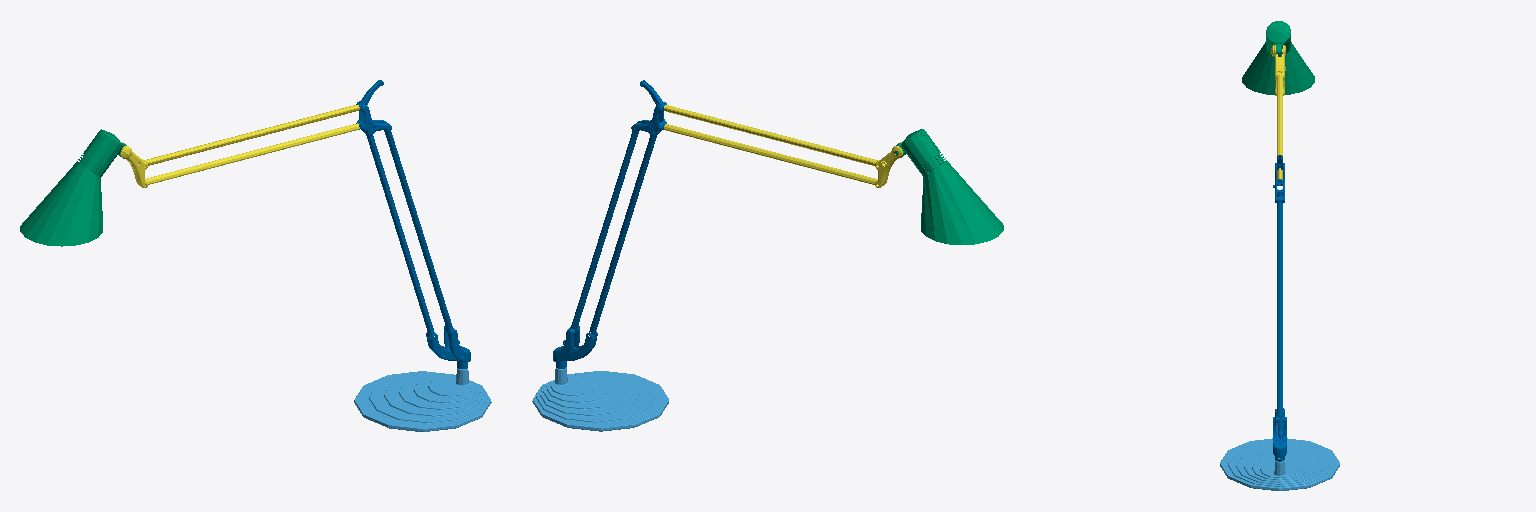
The robot description file, URDF, robot "partnet_19654d8fe7090a887eaeab1f0c9120b7":
<?xml version="1.0" ?>
<robot name="partnet_19654d8fe7090a887eaeab1f0c9120b7">
	<link name="base"/>
	<link name="link_0">
		<visual name="lamp_base_part-16">
			<origin xyz="0 0 0"/>
			<geometry>
				<mesh filename="textured_objs/original-29.obj"/>
			</geometry>
		</visual>
		<collision>
			<origin xyz="0 0 0"/>
			<geometry>
				<mesh filename="textured_objs/original-29.obj"/>
			</geometry>
		</collision>
	</link>
	<joint name="joint_0" type="fixed">
		<origin rpy="1.570796326794897 0 -1.570796326794897" xyz="0 0 0"/>
		<child link="link_0"/>
		<parent link="base"/>
	</joint>
	<link name="link_1">
		<visual name="lamp_shade-13">
			<origin xyz="0 -0.5613646043317658 -0.5857149599509234"/>
			<geometry>
				<mesh filename="textured_objs/new-0.obj"/>
			</geometry>
		</visual>
		<collision>
			<origin xyz="0 -0.5613646043317658 -0.5857149599509234"/>
			<geometry>
				<mesh filename="textured_objs/new-0.obj"/>
			</geometry>
		</collision>
	</link>
	<joint name="joint_1" type="revolute">
		<origin xyz="0.02155600000000002 0.1222978197879897 0.8947739375799466"/>
		<axis xyz="-1 0 0"/>
		<child link="link_1"/>
		<parent link="link_2"/>
		<limit lower="-0.3490658503988659" upper="1.5707963267948966"/>
	</joint>
	<link name="link_2">
		<visual name="lamp_arm_straight_bar-17">
			<origin xyz="0.02155600000000002 -0.4390667845437761 0.30905897762902323"/>
			<geometry>
				<mesh filename="textured_objs/original-32.obj"/>
			</geometry>
		</visual>
		<visual name="lamp_arm_straight_bar-17">
			<origin xyz="0.02155600000000002 -0.4390667845437761 0.30905897762902323"/>
			<geometry>
				<mesh filename="textured_objs/original-35.obj"/>
			</geometry>
		</visual>
		<visual name="lamp_arm_straight_bar-23">
			<origin xyz="0.02155600000000002 -0.4390667845437761 0.30905897762902323"/>
			<geometry>
				<mesh filename="textured_objs/original-26.obj"/>
			</geometry>
		</visual>
		<visual name="lamp_arm_straight_bar-23">
			<origin xyz="0.02155600000000002 -0.4390667845437761 0.30905897762902323"/>
			<geometry>
				<mesh filename="textured_objs/original-1.obj"/>
			</geometry>
		</visual>
		<visual name="lamp_arm_straight_bar-24">
			<origin xyz="0.02155600000000002 -0.4390667845437761 0.30905897762902323"/>
			<geometry>
				<mesh filename="textured_objs/original-25.obj"/>
			</geometry>
		</visual>
		<visual name="lamp_arm_straight_bar-24">
			<origin xyz="0.02155600000000002 -0.4390667845437761 0.30905897762902323"/>
			<geometry>
				<mesh filename="textured_objs/original-2.obj"/>
			</geometry>
		</visual>
		<collision>
			<origin xyz="0.02155600000000002 -0.4390667845437761 0.30905897762902323"/>
			<geometry>
				<mesh filename="textured_objs/original-32.obj"/>
			</geometry>
		</collision>
		<collision>
			<origin xyz="0.02155600000000002 -0.4390667845437761 0.30905897762902323"/>
			<geometry>
				<mesh filename="textured_objs/original-35.obj"/>
			</geometry>
		</collision>
		<collision>
			<origin xyz="0.02155600000000002 -0.4390667845437761 0.30905897762902323"/>
			<geometry>
				<mesh filename="textured_objs/original-26.obj"/>
			</geometry>
		</collision>
		<collision>
			<origin xyz="0.02155600000000002 -0.4390667845437761 0.30905897762902323"/>
			<geometry>
				<mesh filename="textured_objs/original-1.obj"/>
			</geometry>
		</collision>
		<collision>
			<origin xyz="0.02155600000000002 -0.4390667845437761 0.30905897762902323"/>
			<geometry>
				<mesh filename="textured_objs/original-25.obj"/>
			</geometry>
		</collision>
		<collision>
			<origin xyz="0.02155600000000002 -0.4390667845437761 0.30905897762902323"/>
			<geometry>
				<mesh filename="textured_objs/original-2.obj"/>
			</geometry>
		</collision>
	</link>
	<joint name="joint_2" type="revolute">
		<origin xyz="-0.013120328730106589 0.4390667845437761 0.37888020331136707"/>
		<axis xyz="-0.9999999999999999 0 0"/>
		<child link="link_2"/>
		<parent link="link_3"/>
		<limit lower="-0.08726646259971647" upper="0.08726646259971647"/>
	</joint>
	<link name="link_3">
		<visual name="lamp_joint-22">
			<origin xyz="0.008435671269893431 0 0.6879391809403903"/>
			<geometry>
				<mesh filename="textured_objs/original-6.obj"/>
			</geometry>
		</visual>
		<visual name="lamp_joint-22">
			<origin xyz="0.008435671269893431 0 0.6879391809403903"/>
			<geometry>
				<mesh filename="textured_objs/original-30.obj"/>
			</geometry>
		</visual>
		<visual name="lamp_joint-22">
			<origin xyz="0.008435671269893431 0 0.6879391809403903"/>
			<geometry>
				<mesh filename="textured_objs/original-31.obj"/>
			</geometry>
		</visual>
		<visual name="lamp_joint-22">
			<origin xyz="0.008435671269893431 0 0.6879391809403903"/>
			<geometry>
				<mesh filename="textured_objs/original-22.obj"/>
			</geometry>
		</visual>
		<visual name="lamp_joint-22">
			<origin xyz="0.008435671269893431 0 0.6879391809403903"/>
			<geometry>
				<mesh filename="textured_objs/original-21.obj"/>
			</geometry>
		</visual>
		<visual name="lamp_joint-22">
			<origin xyz="0.008435671269893431 0 0.6879391809403903"/>
			<geometry>
				<mesh filename="textured_objs/original-17.obj"/>
			</geometry>
		</visual>
		<visual name="lamp_joint-27">
			<origin xyz="0.008435671269893431 0 0.6879391809403903"/>
			<geometry>
				<mesh filename="textured_objs/original-37.obj"/>
			</geometry>
		</visual>
		<visual name="lamp_joint-27">
			<origin xyz="0.008435671269893431 0 0.6879391809403903"/>
			<geometry>
				<mesh filename="textured_objs/original-27.obj"/>
			</geometry>
		</visual>
		<visual name="lamp_arm_straight_bar-25">
			<origin xyz="0.008435671269893431 0 0.6879391809403903"/>
			<geometry>
				<mesh filename="textured_objs/original-23.obj"/>
			</geometry>
		</visual>
		<visual name="lamp_arm_straight_bar-25">
			<origin xyz="0.008435671269893431 0 0.6879391809403903"/>
			<geometry>
				<mesh filename="textured_objs/original-38.obj"/>
			</geometry>
		</visual>
		<visual name="lamp_arm_straight_bar-26">
			<origin xyz="0.008435671269893431 0 0.6879391809403903"/>
			<geometry>
				<mesh filename="textured_objs/original-24.obj"/>
			</geometry>
		</visual>
		<visual name="lamp_arm_straight_bar-26">
			<origin xyz="0.008435671269893431 0 0.6879391809403903"/>
			<geometry>
				<mesh filename="textured_objs/original-39.obj"/>
			</geometry>
		</visual>
		<collision>
			<origin xyz="0.008435671269893431 0 0.6879391809403903"/>
			<geometry>
				<mesh filename="textured_objs/original-6.obj"/>
			</geometry>
		</collision>
		<collision>
			<origin xyz="0.008435671269893431 0 0.6879391809403903"/>
			<geometry>
				<mesh filename="textured_objs/original-30.obj"/>
			</geometry>
		</collision>
		<collision>
			<origin xyz="0.008435671269893431 0 0.6879391809403903"/>
			<geometry>
				<mesh filename="textured_objs/original-31.obj"/>
			</geometry>
		</collision>
		<collision>
			<origin xyz="0.008435671269893431 0 0.6879391809403903"/>
			<geometry>
				<mesh filename="textured_objs/original-22.obj"/>
			</geometry>
		</collision>
		<collision>
			<origin xyz="0.008435671269893431 0 0.6879391809403903"/>
			<geometry>
				<mesh filename="textured_objs/original-21.obj"/>
			</geometry>
		</collision>
		<collision>
			<origin xyz="0.008435671269893431 0 0.6879391809403903"/>
			<geometry>
				<mesh filename="textured_objs/original-17.obj"/>
			</geometry>
		</collision>
		<collision>
			<origin xyz="0.008435671269893431 0 0.6879391809403903"/>
			<geometry>
				<mesh filename="textured_objs/original-37.obj"/>
			</geometry>
		</collision>
		<collision>
			<origin xyz="0.008435671269893431 0 0.6879391809403903"/>
			<geometry>
				<mesh filename="textured_objs/original-27.obj"/>
			</geometry>
		</collision>
		<collision>
			<origin xyz="0.008435671269893431 0 0.6879391809403903"/>
			<geometry>
				<mesh filename="textured_objs/original-23.obj"/>
			</geometry>
		</collision>
		<collision>
			<origin xyz="0.008435671269893431 0 0.6879391809403903"/>
			<geometry>
				<mesh filename="textured_objs/original-38.obj"/>
			</geometry>
		</collision>
		<collision>
			<origin xyz="0.008435671269893431 0 0.6879391809403903"/>
			<geometry>
				<mesh filename="textured_objs/original-24.obj"/>
			</geometry>
		</collision>
		<collision>
			<origin xyz="0.008435671269893431 0 0.6879391809403903"/>
			<geometry>
				<mesh filename="textured_objs/original-39.obj"/>
			</geometry>
		</collision>
	</link>
	<joint name="joint_3" type="revolute">
		<origin xyz="-0.008435671269893431 0 -0.6879391809403903"/>
		<axis xyz="0 1 0"/>
		<child link="link_3"/>
		<parent link="link_0"/>
		<limit lower="-1.0471975511965976" upper="1.0471975511965976"/>
	</joint>
</robot>

--- Facts derived from the render (not from the file) ---
3 views of the same robot in one strip: view 1: azimuth 30°, elevation 25°; view 2: azimuth 150°, elevation 25°; view 3: azimuth 270°, elevation 25° (orthographic).
Model partnet_19654d8fe7090a887eaeab1f0c9120b7 with 5 links and 4 joints (3 revolute, 1 fixed), rooted at base, posed all joints at 0.
Visible links, largest first — view 1: link_0, link_1, link_3, link_2; view 2: link_0, link_1, link_3, link_2; view 3: link_0, link_1, link_3, link_2.
Boxes of the visible links, x1,y1,x2,y2 form: link_0: (354, 368, 491, 431); link_1: (20, 129, 126, 246); link_3: (356, 80, 470, 368); link_2: (120, 105, 359, 187); link_0: (532, 367, 668, 431); link_1: (894, 129, 1003, 244); link_3: (553, 80, 666, 368); link_2: (664, 105, 902, 187); link_0: (1220, 438, 1339, 490); link_1: (1242, 21, 1314, 94); link_3: (1273, 155, 1286, 461); link_2: (1271, 45, 1285, 179).
Bounding box of the posed robot: 1.71 × 0.4446 × 1.26 m (x, y, z).
Meshes: 20 distinct files referenced, 20 mesh visuals loaded (20 OBJ).
